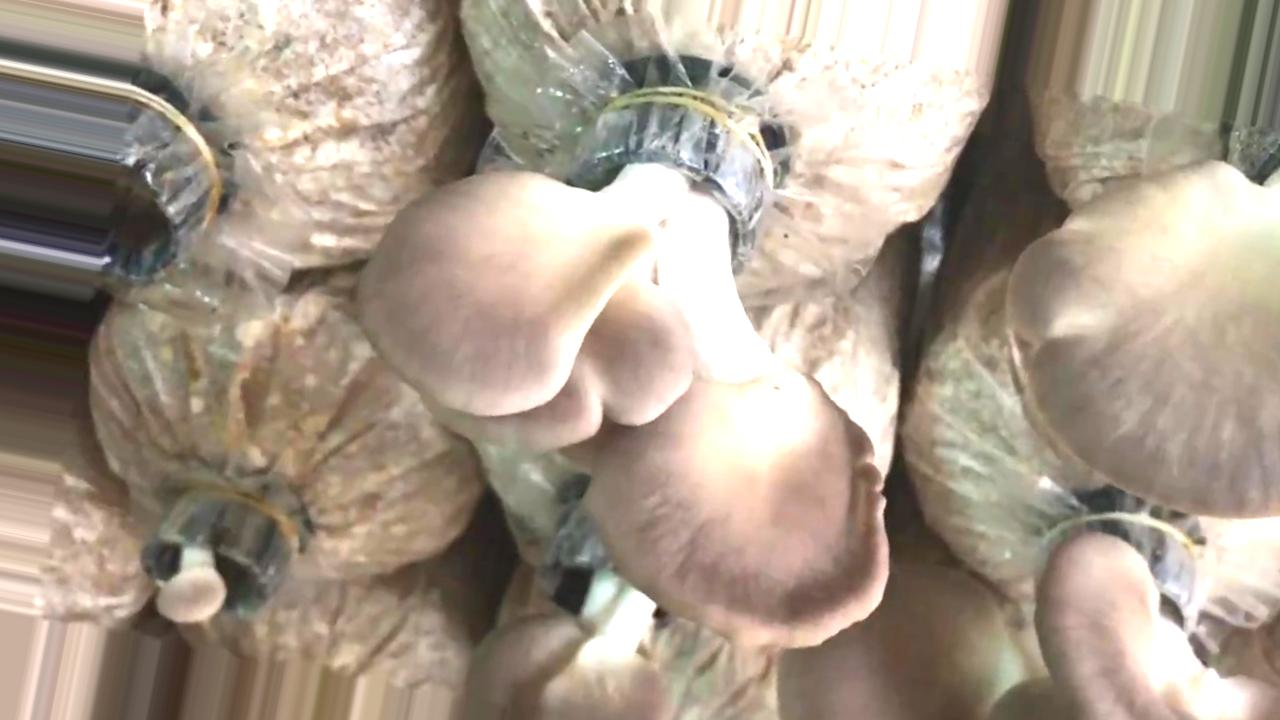nam: (360, 103, 888, 647), (780, 509, 1280, 719), (1006, 160, 1280, 516), (467, 515, 680, 719), (141, 499, 302, 623)
